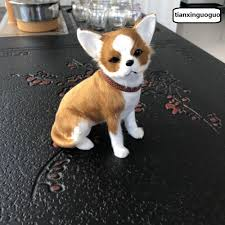Bulldog: (33, 11, 186, 168)
